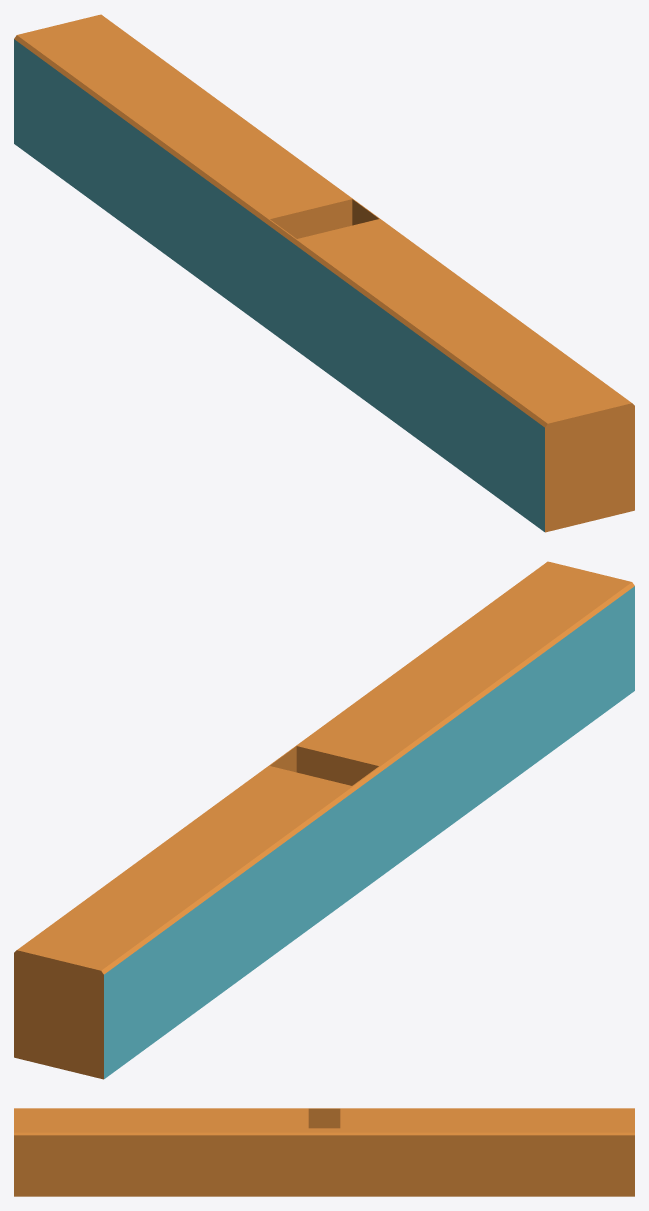
The model's file is Springplatform.fbx.
3 views of the same model, one above another, from view 1: azimuth 30°, elevation 25°; view 2: azimuth 150°, elevation 25°; view 3: azimuth 270°, elevation 25° (orthographic). The views are drawn at different scales.
Parts seen in each view (by area): view 1: Cube.001; view 2: Cube.001; view 3: Cube.001.
Part boxes in pixels (bbox=[...]): Cube.001: bbox=[14, 14, 634, 532]; Cube.001: bbox=[14, 561, 634, 1079]; Cube.001: bbox=[14, 1108, 634, 1196].
Size of the model in its own units: 181 by 208 by 1849.
